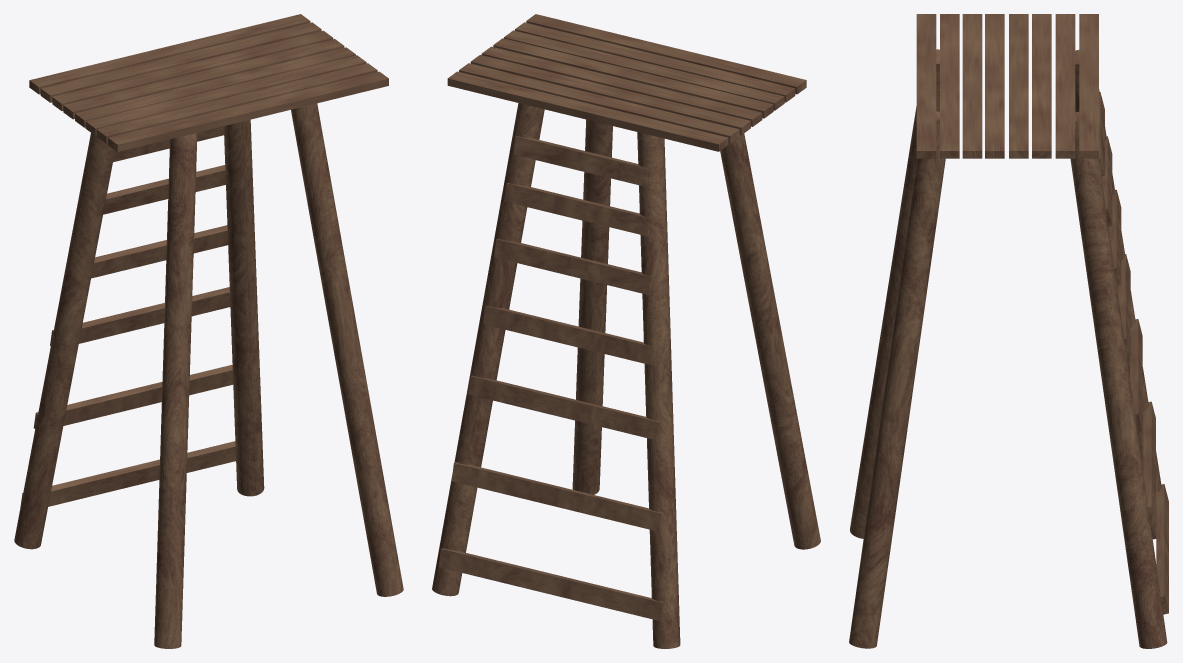
Rendered from smallTower.fbx.
The picture shows the model from 3 angles, left to right: view 1: azimuth 30°, elevation 25°; view 2: azimuth 150°, elevation 25°; view 3: azimuth 270°, elevation 25°; orthographic projection. The views are drawn at different scales.
Visible parts, largest first — view 1: bake; view 2: bake; view 3: bake.
Boxes of the visible parts, <box> form: bake: <box>14,14,403,648</box>; bake: <box>432,14,820,648</box>; bake: <box>849,14,1168,648</box>.
Size of the model in its own units: 208 by 359 by 205.
1 material, 1 textured.
